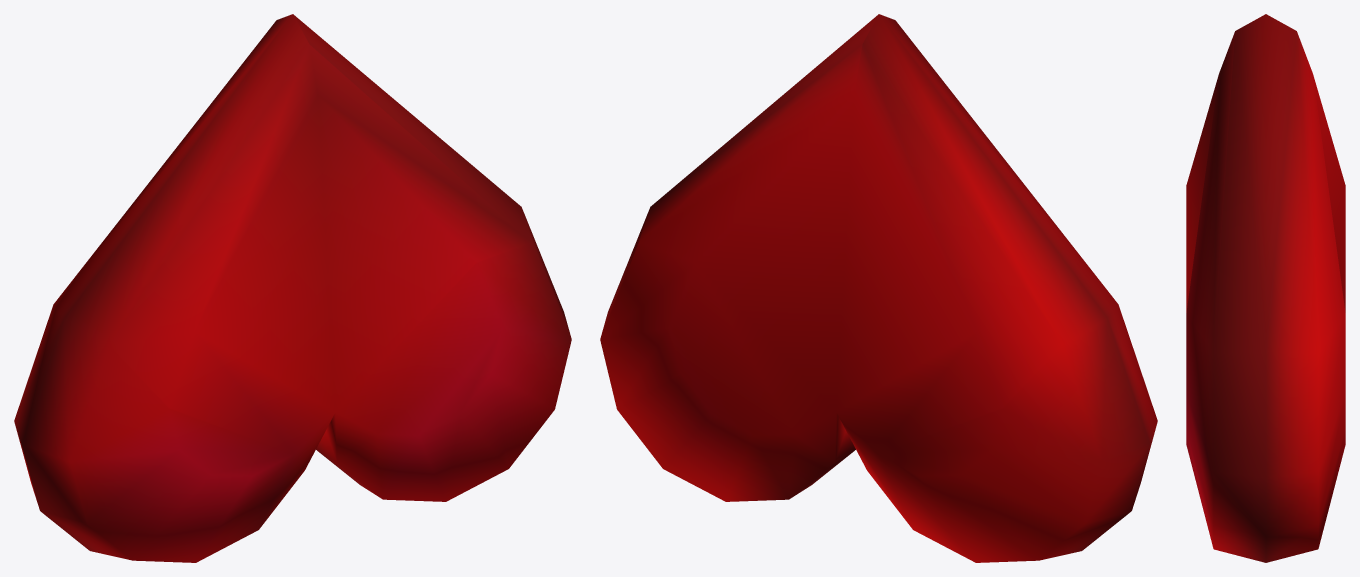
Rendered from heart.fbx.
3 renders of one model, left to right at view 1: azimuth 30°, elevation 25°; view 2: azimuth 150°, elevation 25°; view 3: azimuth 270°, elevation 25°, orthographic. The views are drawn at different scales.
Parts seen in each view (by area): view 1: Circle.001; view 2: Circle.001; view 3: Circle.001.
Part boxes in pixels (bbox=[...]): Circle.001: bbox=[14, 14, 571, 562]; Circle.001: bbox=[600, 14, 1157, 562]; Circle.001: bbox=[1186, 14, 1345, 562].
Size of the model in its own units: 143 by 128 by 38.87.
